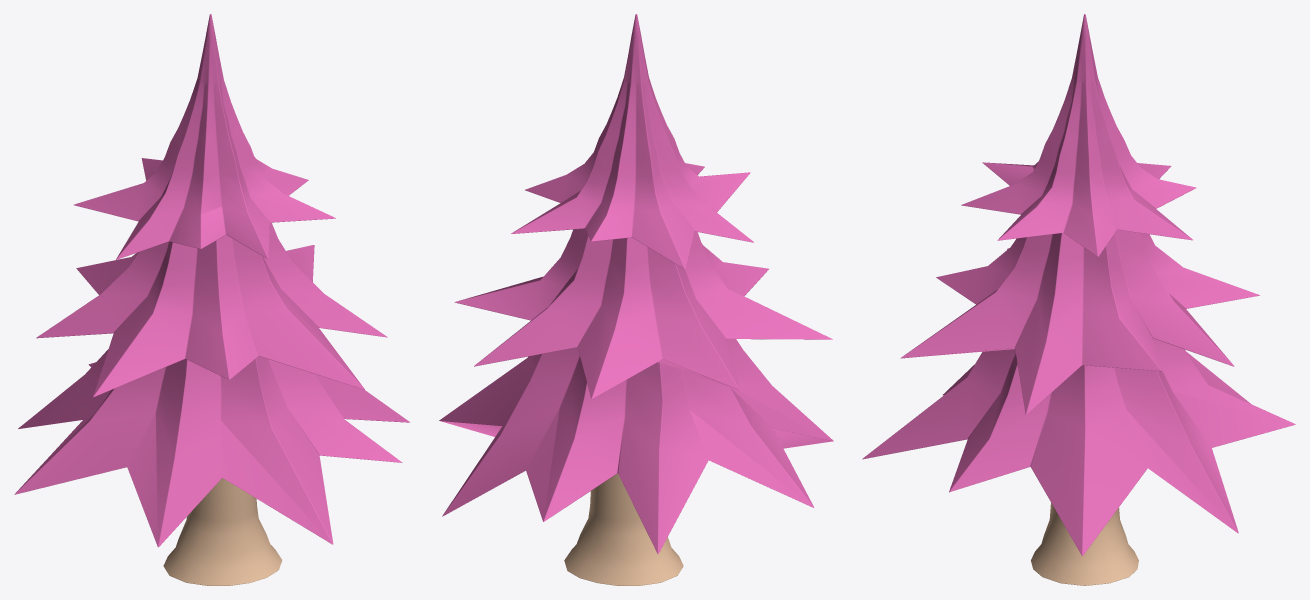
File: Spruce.fbx
3 views of the same model, side by side, from view 1: azimuth 30°, elevation 25°; view 2: azimuth 150°, elevation 25°; view 3: azimuth 270°, elevation 25° (orthographic).
Parts seen in each view (by area): view 1: Spruce; view 2: Spruce; view 3: Spruce.
Boxes of the visible parts, x1=… form: Spruce: x1=14, y1=14, x2=409, y2=585; Spruce: x1=439, y1=14, x2=833, y2=585; Spruce: x1=862, y1=14, x2=1295, y2=585.
Size of the model in its own units: 483 by 660 by 480.
